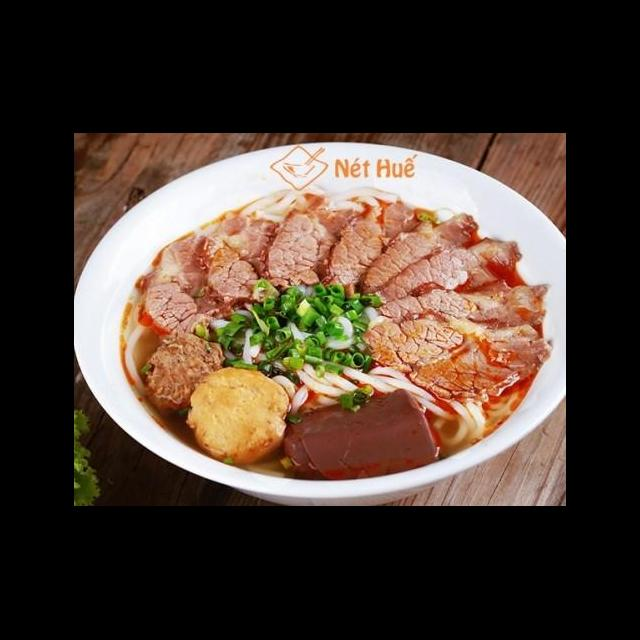bun: (206, 282, 384, 418), (367, 362, 491, 448), (236, 182, 401, 226), (114, 320, 157, 400)
bun bo: (110, 158, 528, 476)
thit bo: (359, 314, 558, 402), (373, 233, 526, 310), (362, 208, 483, 300), (375, 274, 555, 334), (318, 198, 421, 296), (254, 206, 361, 294), (135, 230, 210, 346), (203, 210, 289, 308)
